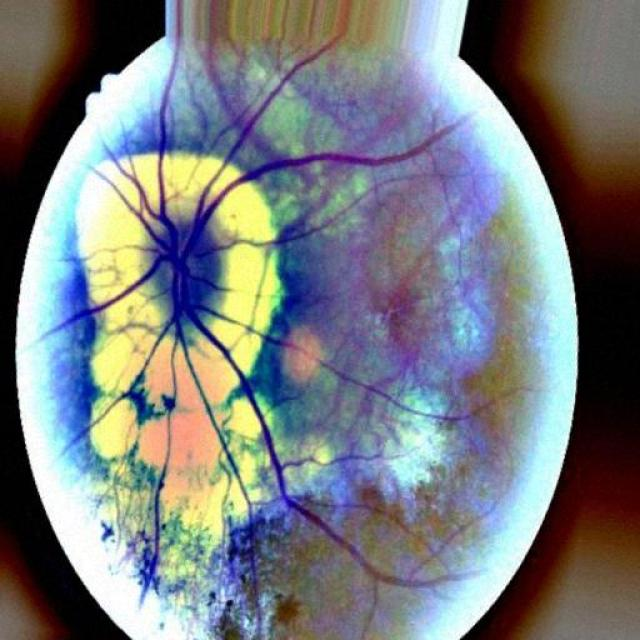Nerves: (191, 314, 378, 583), (209, 114, 472, 221), (161, 238, 195, 325)
Optic Disk: (108, 165, 274, 361)
